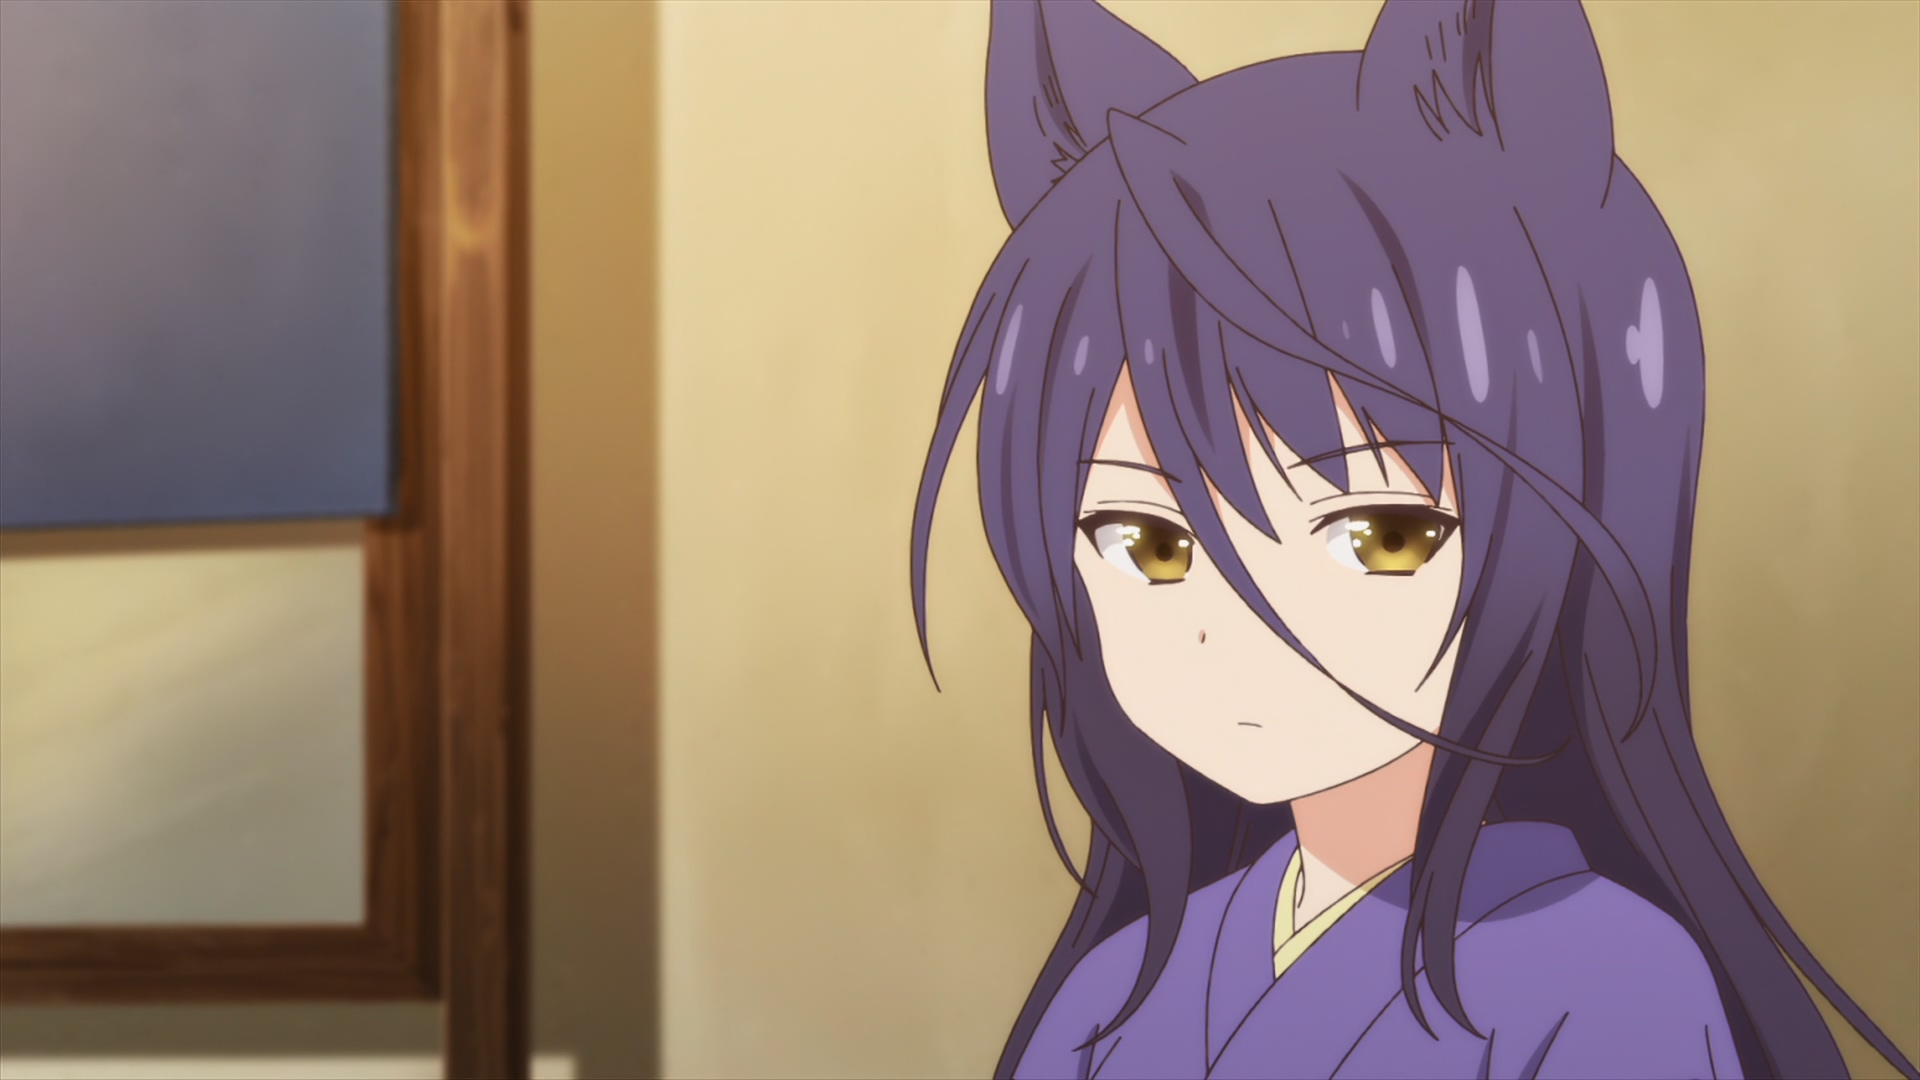皋: (909, 1, 1920, 1080)
